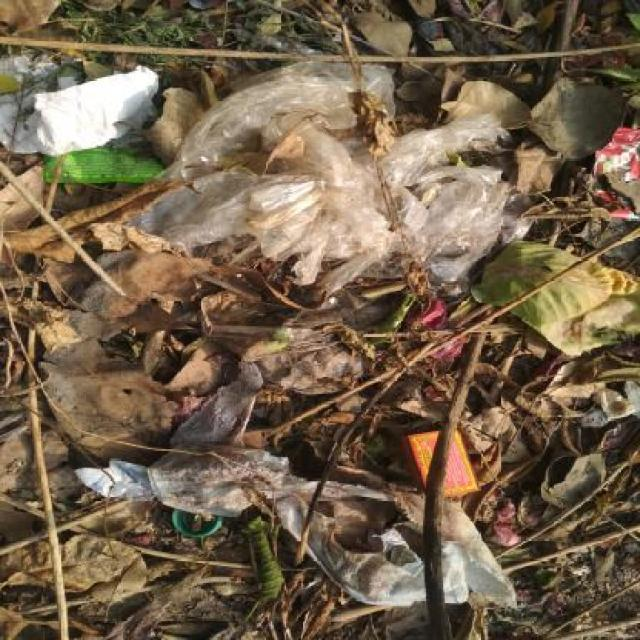garbage: (14, 46, 628, 403), (20, 418, 624, 630)
